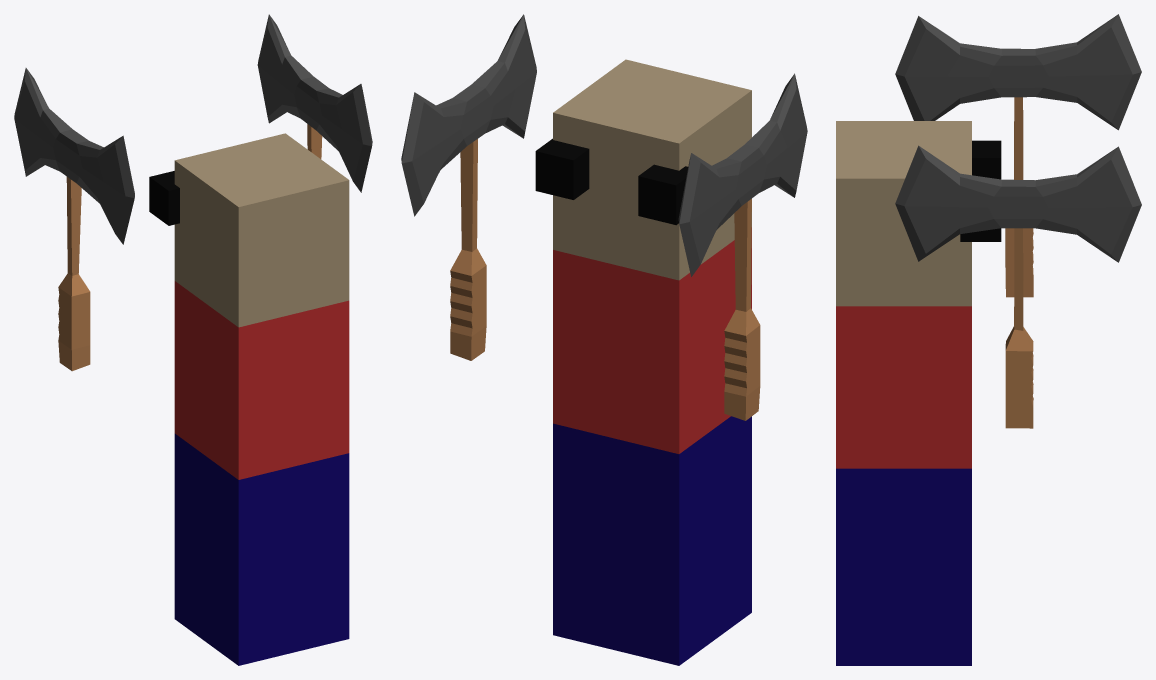
File: Medieval.fbx_Zeke.fbx
The picture shows the model from 3 angles, left to right: view 1: azimuth 30°, elevation 25°; view 2: azimuth 150°, elevation 25°; view 3: azimuth 270°, elevation 25°; orthographic projection. The views are drawn at different scales.
Parts seen in each view (by area): view 1: MediumMan.002, Axe.002, Axe.001; view 2: MediumMan.002, Axe.001, Axe.002; view 3: MediumMan.002, Axe.001, Axe.002.
Part boxes in pixels (bbox=[...]): MediumMan.002: bbox=[149, 133, 349, 665]; Axe.002: bbox=[14, 68, 134, 371]; Axe.001: bbox=[257, 14, 372, 192]; MediumMan.002: bbox=[535, 59, 751, 665]; Axe.001: bbox=[401, 14, 536, 360]; Axe.002: bbox=[678, 73, 807, 420]; MediumMan.002: bbox=[836, 121, 1001, 665]; Axe.001: bbox=[895, 145, 1141, 428]; Axe.002: bbox=[895, 14, 1141, 297].
Bounding box in the file's own units: 91.34 × 87.71 × 175.
